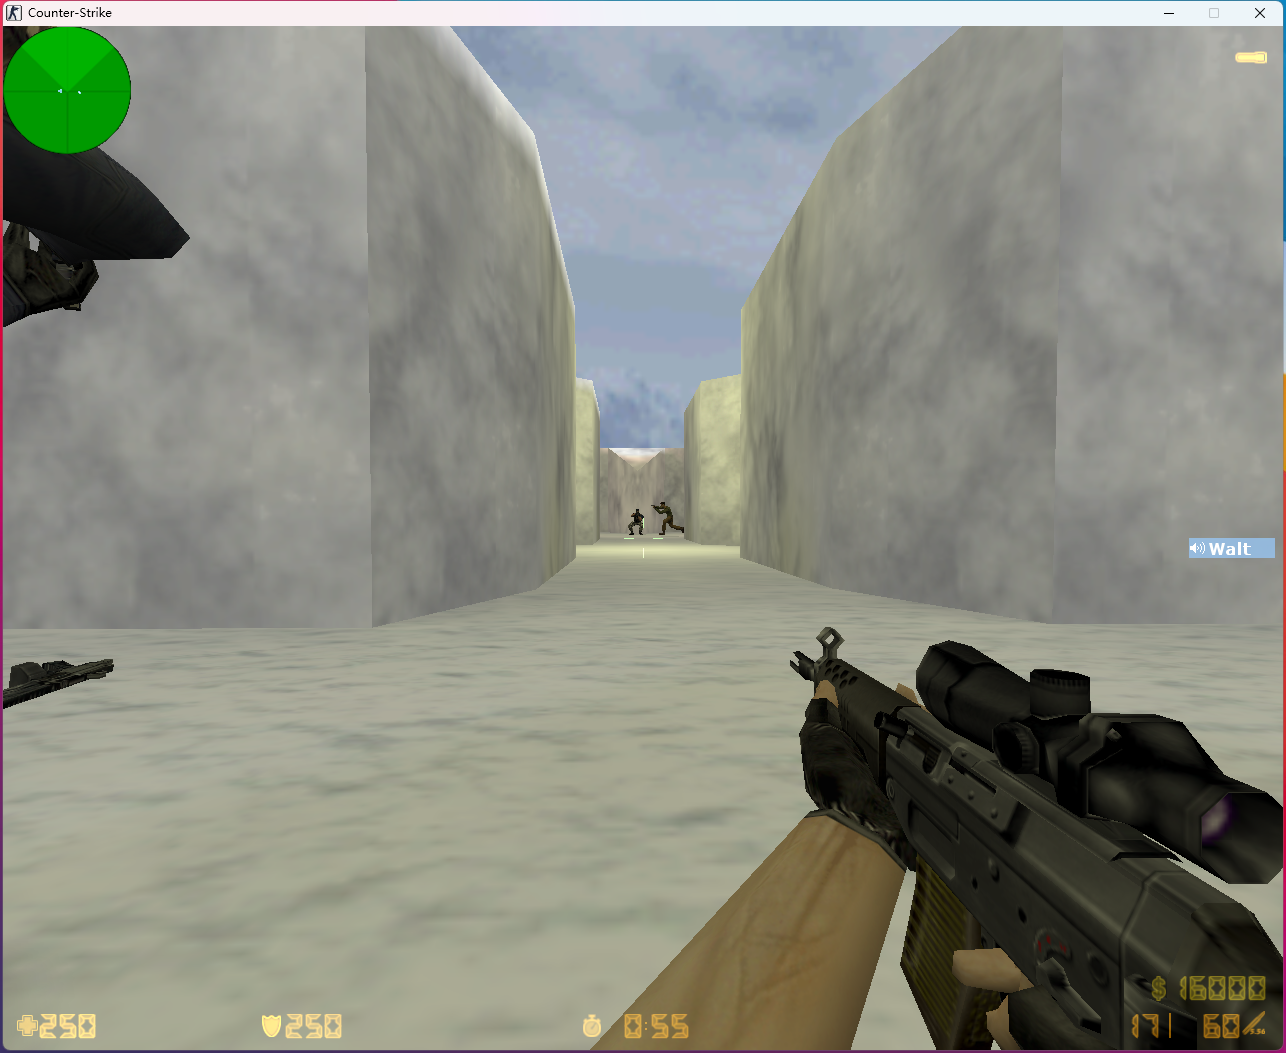T: (652, 498, 686, 537), (626, 509, 644, 533)
